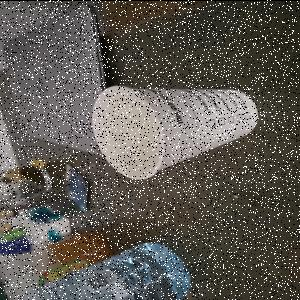Cup: (92, 85, 261, 181)
Plastic-bottle: (20, 240, 195, 300)
